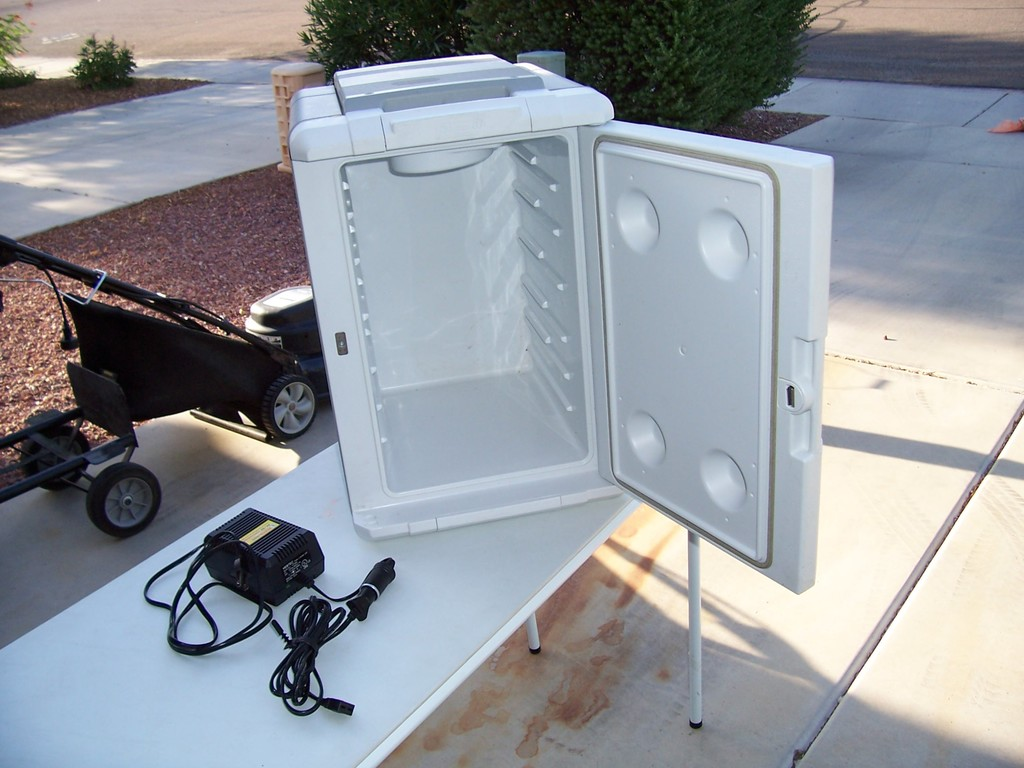Wheel: (262, 373, 319, 438), (24, 425, 87, 483), (89, 467, 154, 523)
